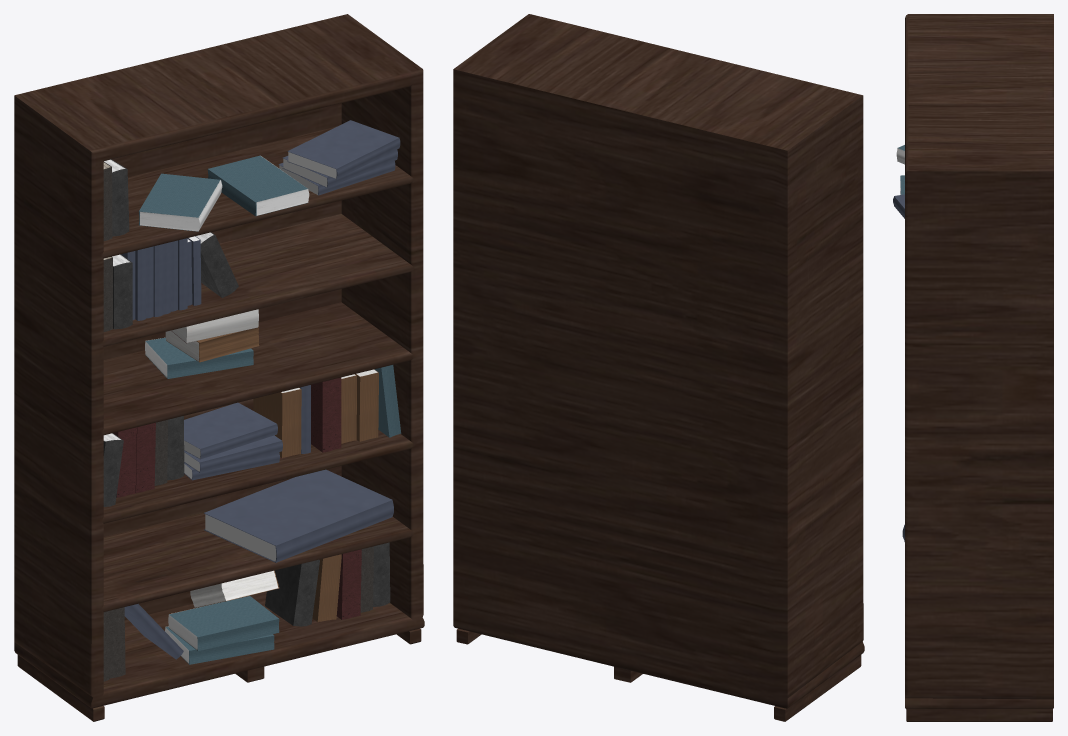
3 renders of one model, left to right at view 1: azimuth 30°, elevation 25°; view 2: azimuth 150°, elevation 25°; view 3: azimuth 270°, elevation 25°, orthographic. The views are drawn at different scales.
Visible parts, largest first — view 1: BookCase_WithBooks (×7); view 2: BookCase_WithBooks; view 3: BookCase_WithBooks.
Boxes of the visible parts, left/top/right/bottom form: BookCase_WithBooks (×7): left=14, top=14, right=424, bottom=721; BookCase_WithBooks: left=453, top=14, right=864, bottom=721; BookCase_WithBooks: left=905, top=14, right=1053, bottom=721.
Bounding box in the file's own units: 1.22 × 2 × 0.5277.
Materials: 7 (7 with a texture image).
